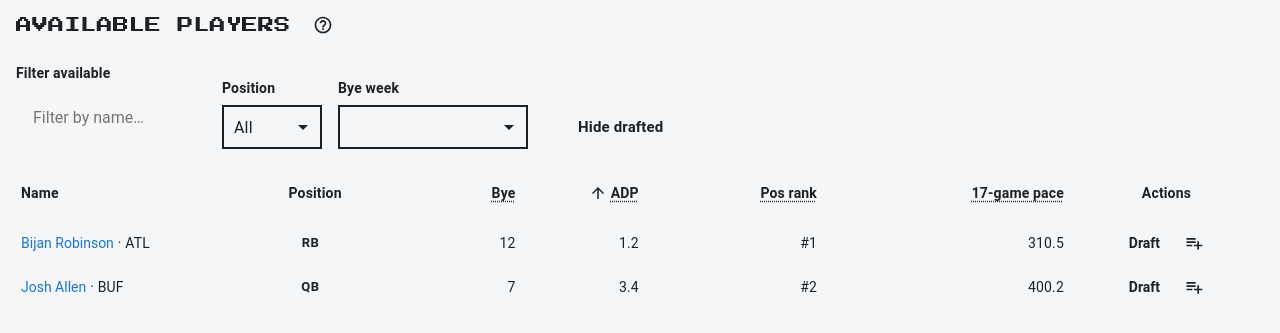
off-turn, the Draft button surfaces the shared explanation as its tooltip text
Hover over the button "Draft" in the row of "ATL".
mouse_move(1144, 243)  # box x1=1121 y1=225 x2=1168 y2=261
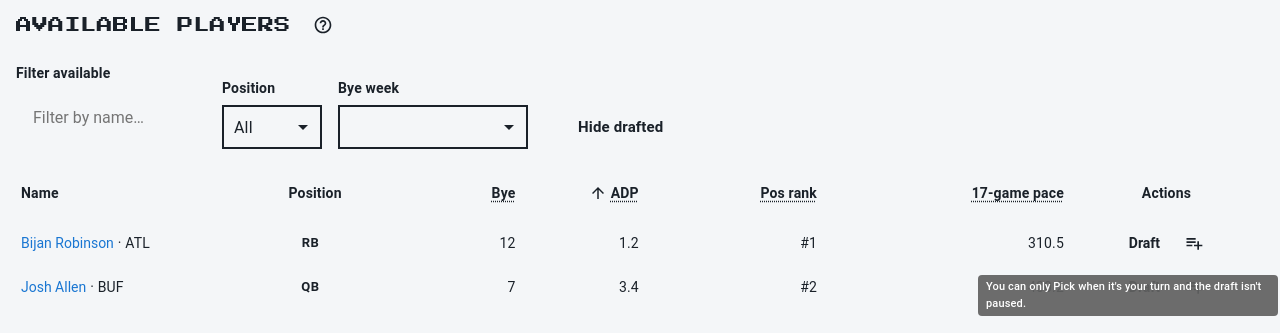
Now the tooltip reads "You can only Pick when it's your turn and the draft isn't paused.", box x1=986 y1=280 x2=1261 y2=310
